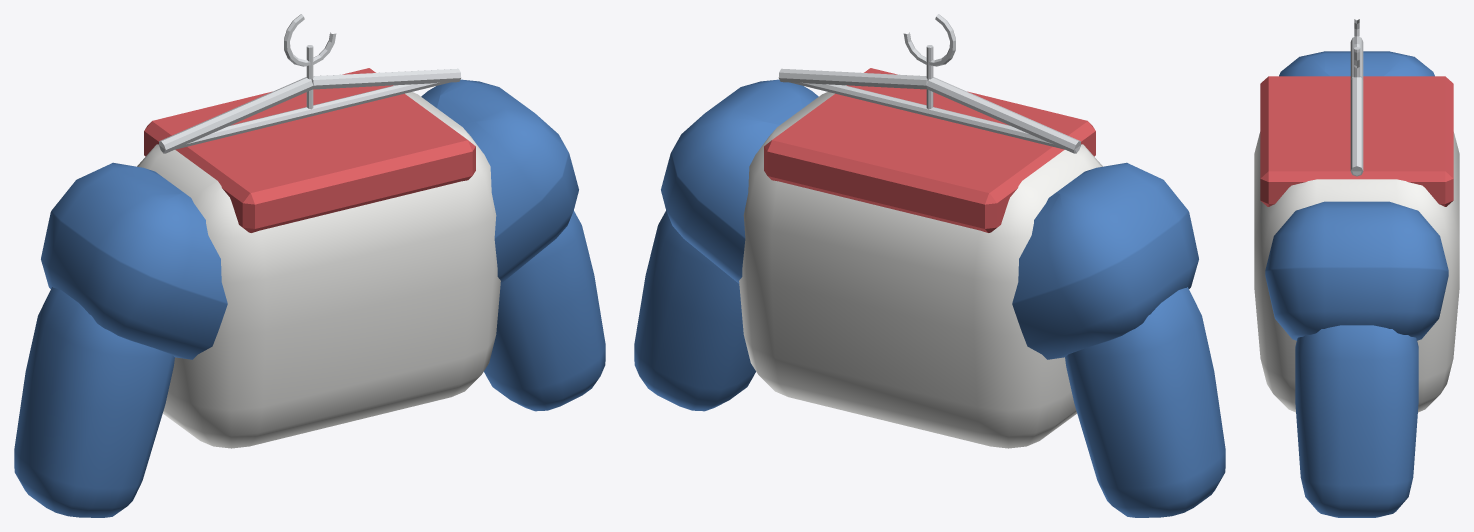
Rendered from ice-hockey-arena-and-locker-room-shoulder-pads-on-hang-0ae31543__33729.glb.
3 renders of one model, left to right at view 1: azimuth 30°, elevation 25°; view 2: azimuth 150°, elevation 25°; view 3: azimuth 270°, elevation 25°, orthographic. The views are drawn at different scales.
Parts seen in each view (by area): view 1: shoulder-pads-on-hanger; view 2: shoulder-pads-on-hanger; view 3: shoulder-pads-on-hanger.
Part boxes in pixels (x1,y1,x2,y2): shoulder-pads-on-hanger: [14, 14, 605, 517]; shoulder-pads-on-hanger: [634, 14, 1225, 517]; shoulder-pads-on-hanger: [1254, 19, 1459, 517].
Size of the model in its own units: 0.7233 by 0.5423 by 0.255.
